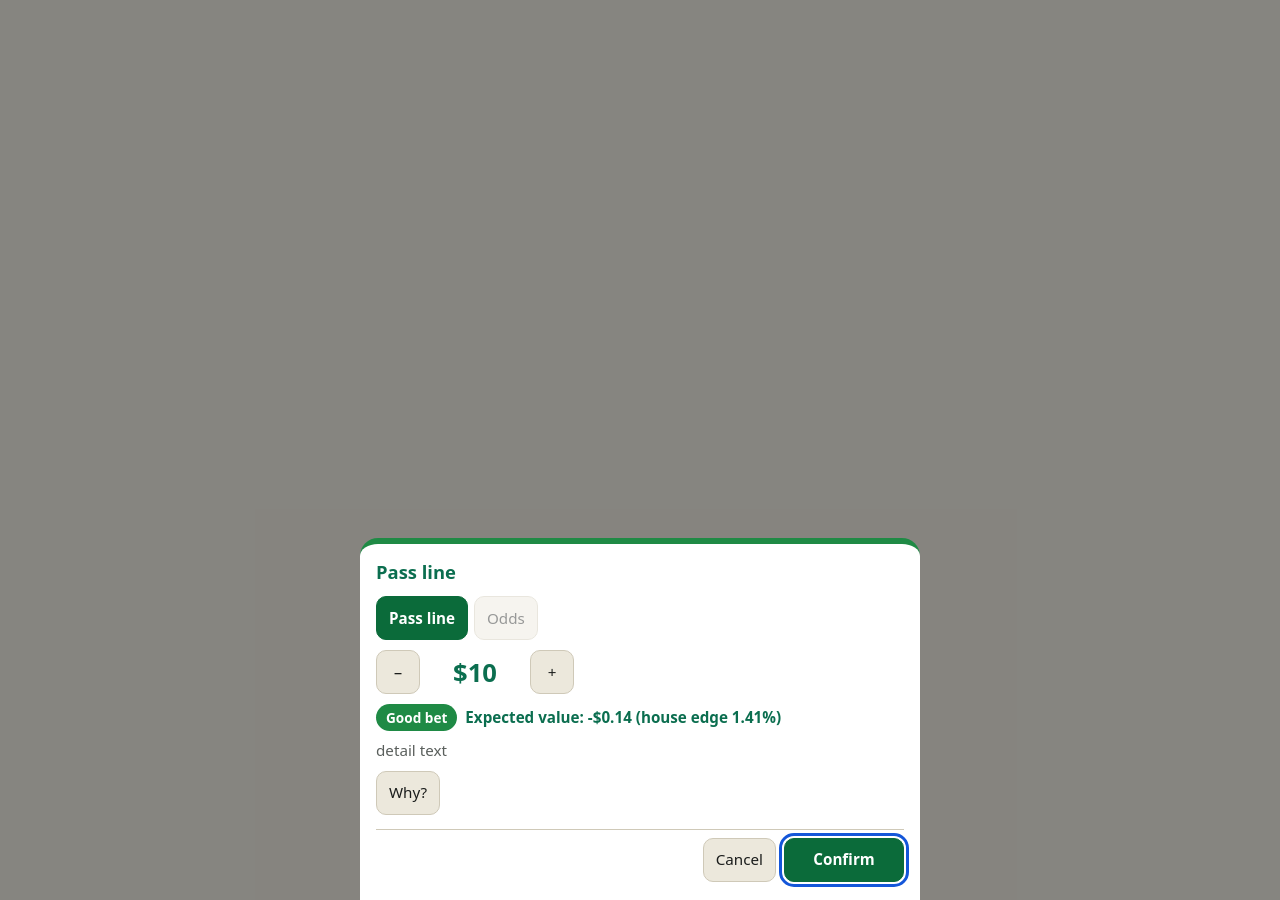
Test case: BetSheet › Why? expands the outcome rows and formula
Check: the text "formula here" is not shown
Click the button "Why?" at (408, 793), box 376,771 -> 440,815
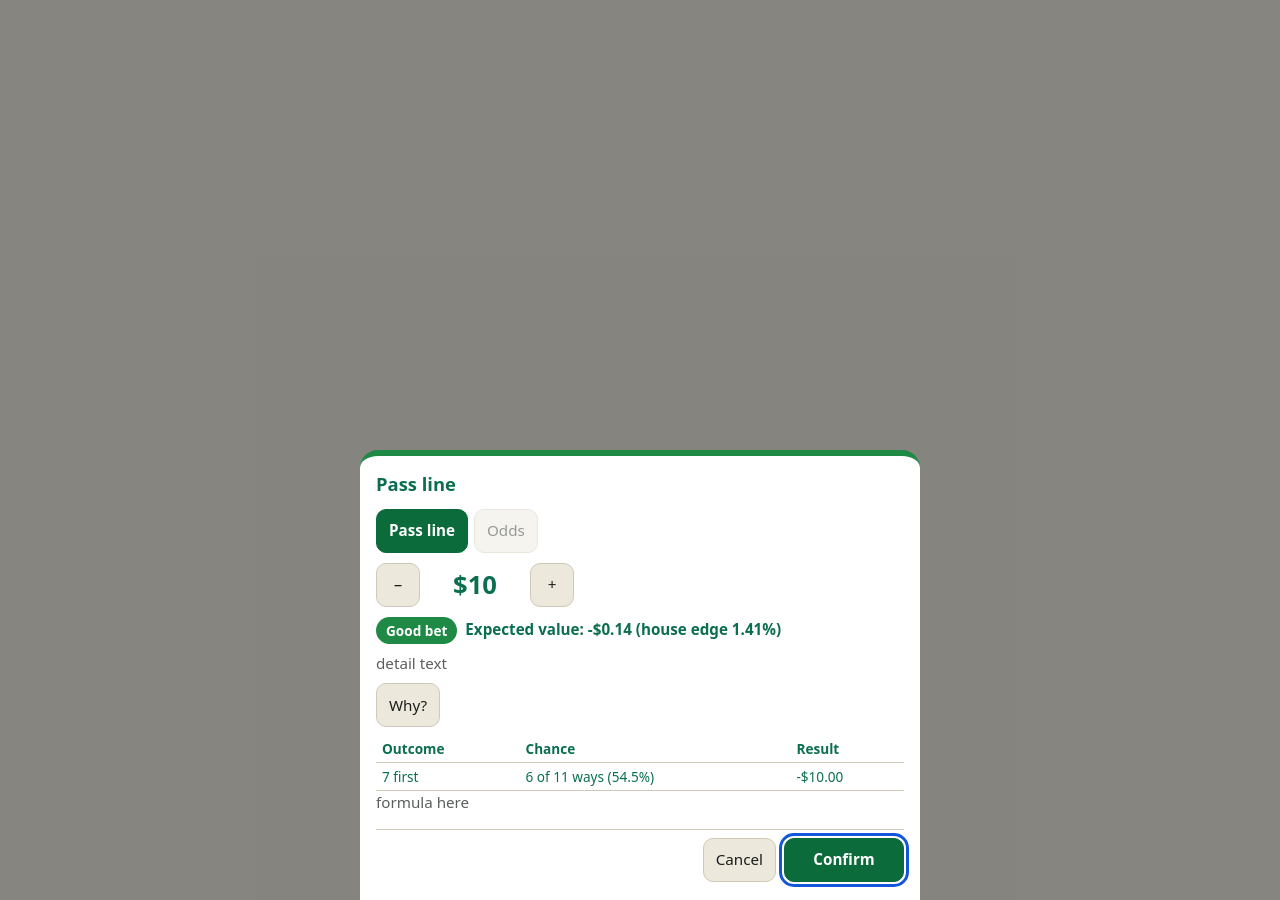
Check: the text "7 first" is shown, box 376,763 -> 520,791
Check: the text "6 of 11 ways (54.5%)" is shown, box 520,763 -> 790,791
Check: the text "formula here" is shown, box 376,792 -> 469,812
